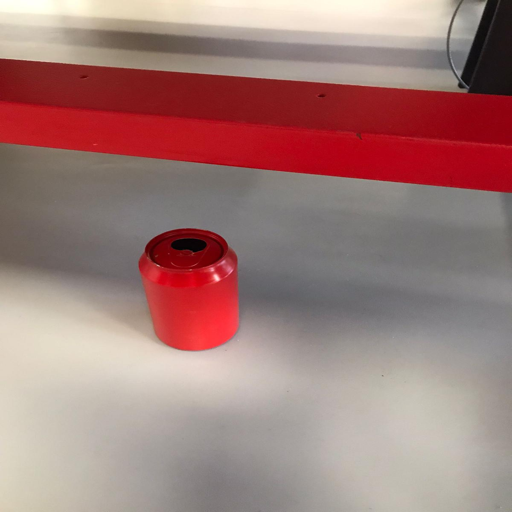Red_Can: (137, 226, 240, 354)
